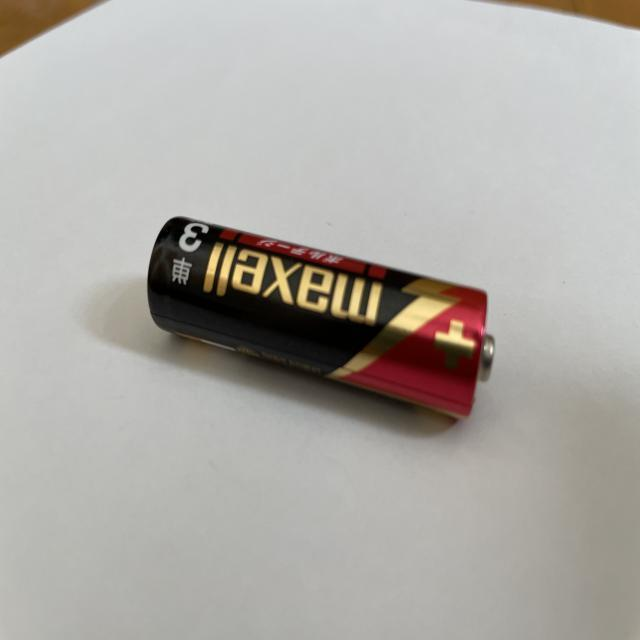Hazard: (147, 215, 496, 426)
